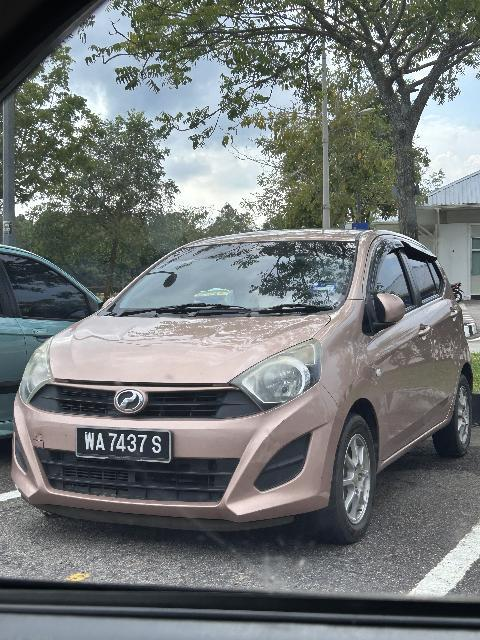License_Plate: (76, 427, 175, 464)
WA7437S: (76, 427, 175, 464)
car: (9, 235, 480, 547)
